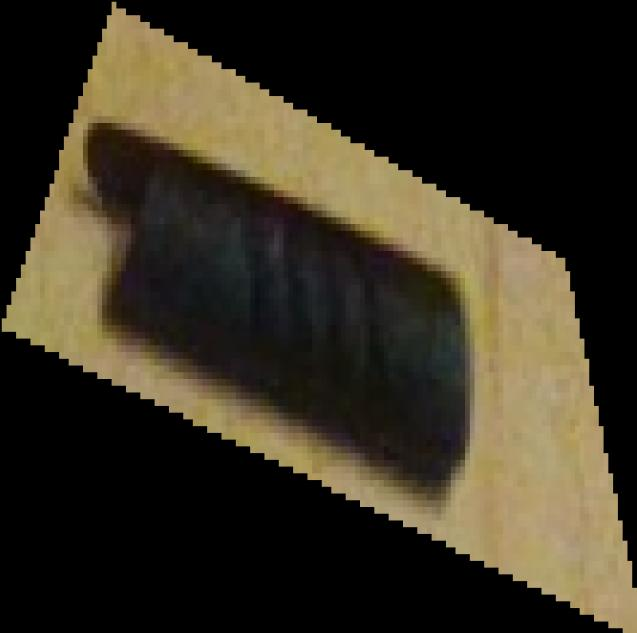black: (1, 1, 637, 633)
